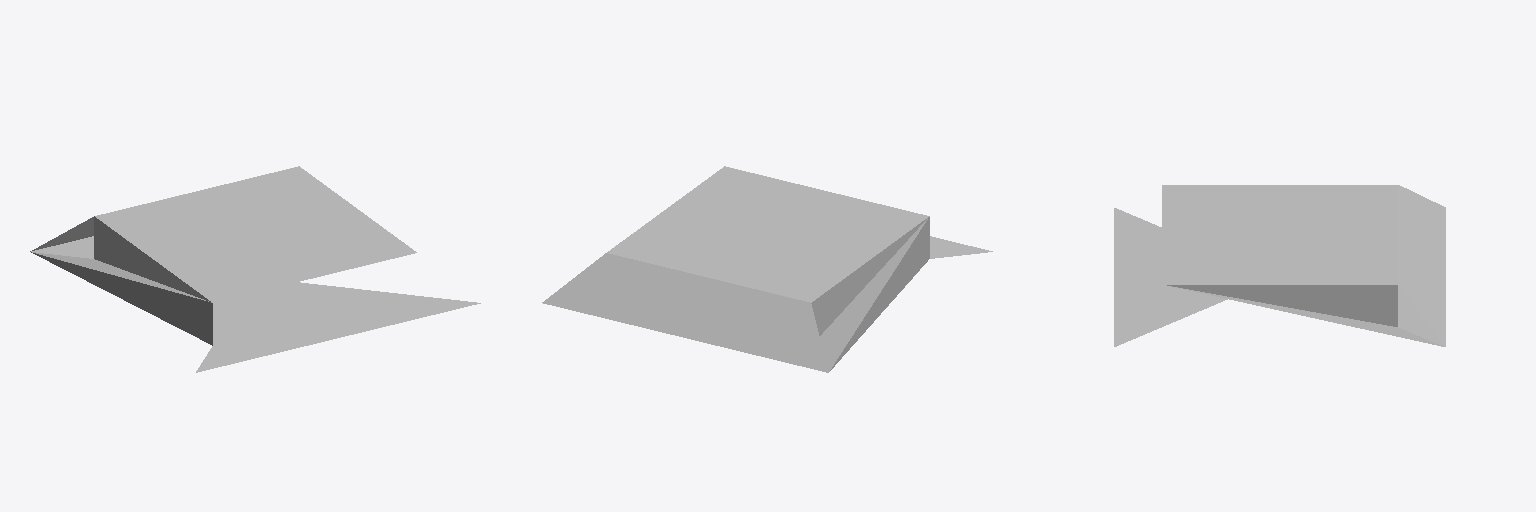
The model's file is PlayerMegaCannon.obj.
The picture shows the model from 3 angles: view 1: azimuth 30°, elevation 25°; view 2: azimuth 150°, elevation 25°; view 3: azimuth 270°, elevation 25°; orthographic projection.
Size of the model in its own units: 7 by 1 by 7.